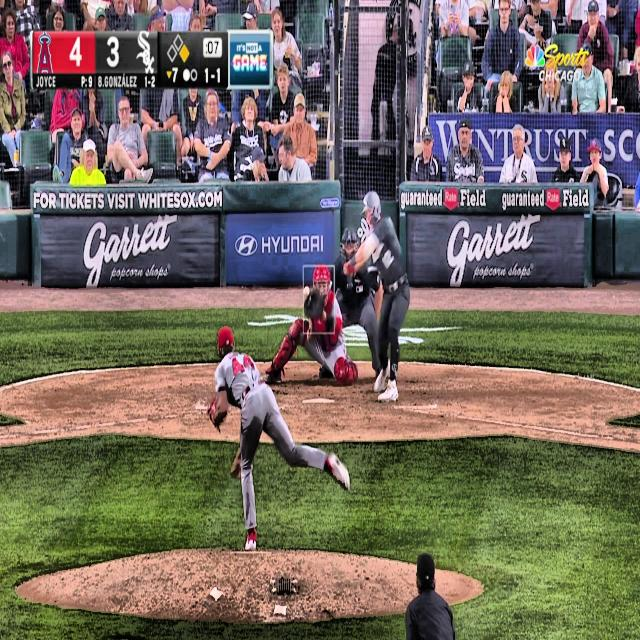baseball: (304, 285, 310, 297)
